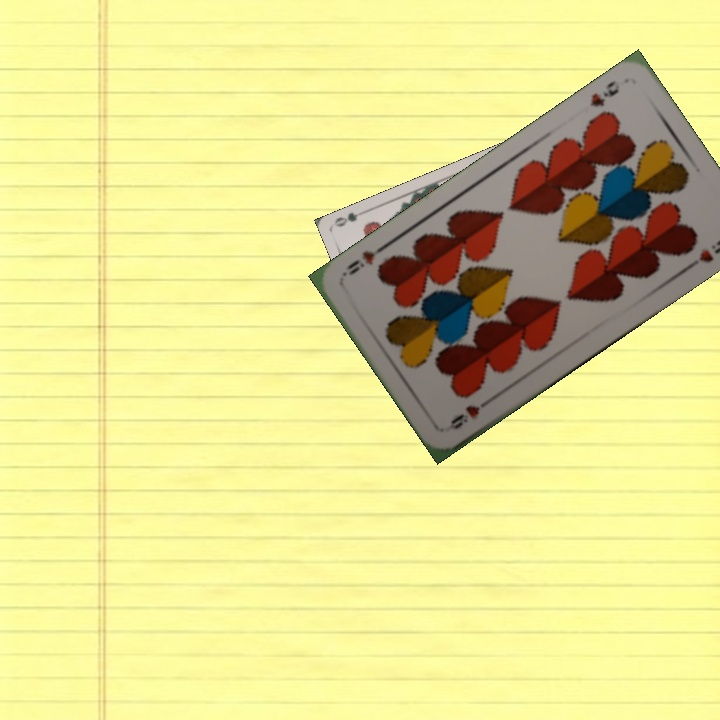H9: (443, 393, 495, 433), (586, 75, 626, 110)
